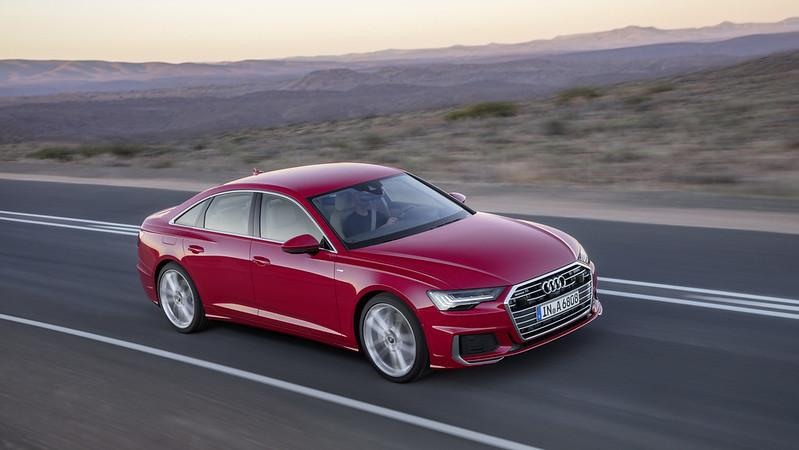windshield: (300, 169, 483, 261)
